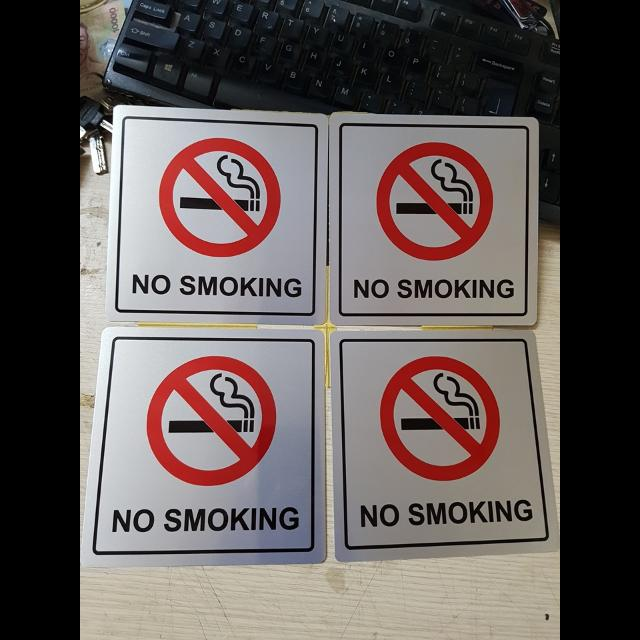cam hut thuoc: (81, 329, 325, 565), (331, 329, 558, 560), (107, 113, 326, 323), (330, 114, 537, 325)
